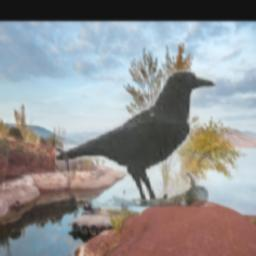Crow: (54, 70, 215, 207)
